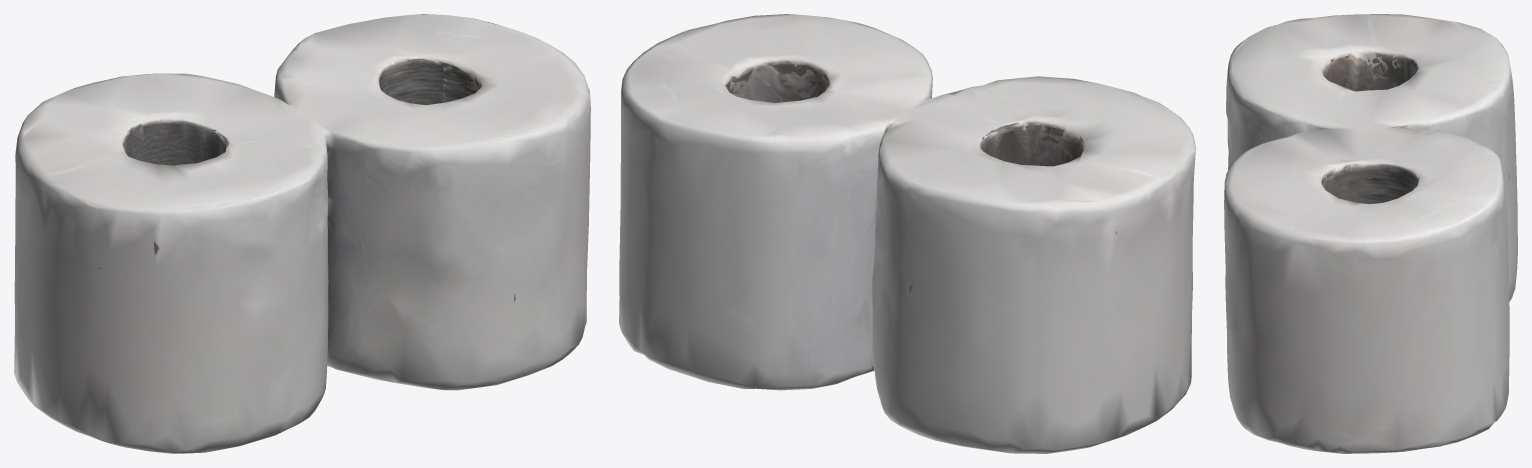
Rendered from react-paper_rolls-C-fvB_lH.glb.
3 views of the same model, side by side, from view 1: azimuth 30°, elevation 25°; view 2: azimuth 150°, elevation 25°; view 3: azimuth 270°, elevation 25° (orthographic). The views are drawn at different scales.
Visible parts, largest first — view 1: Meshy_Mesh_0.005; view 2: Meshy_Mesh_0.005; view 3: Meshy_Mesh_0.005.
Part boxes in pixels (bbox=[...]): Meshy_Mesh_0.005: bbox=[14, 14, 590, 453]; Meshy_Mesh_0.005: bbox=[619, 14, 1195, 453]; Meshy_Mesh_0.005: bbox=[1224, 14, 1517, 453].
Size of the model in its own units: 0.2248 by 0.1049 by 0.1213.
Materials: 1 (1 with a texture image).
